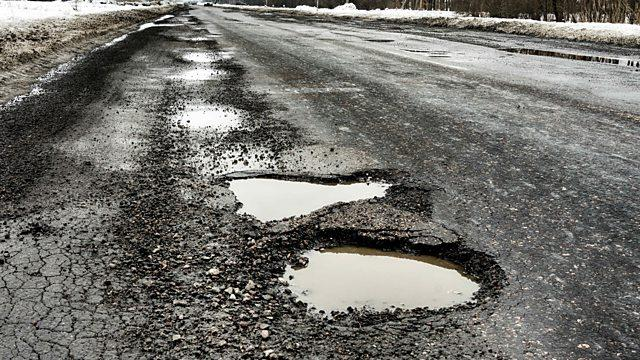Pothole: (212, 163, 502, 321), (173, 96, 272, 139), (161, 43, 232, 69), (161, 3, 197, 27)
